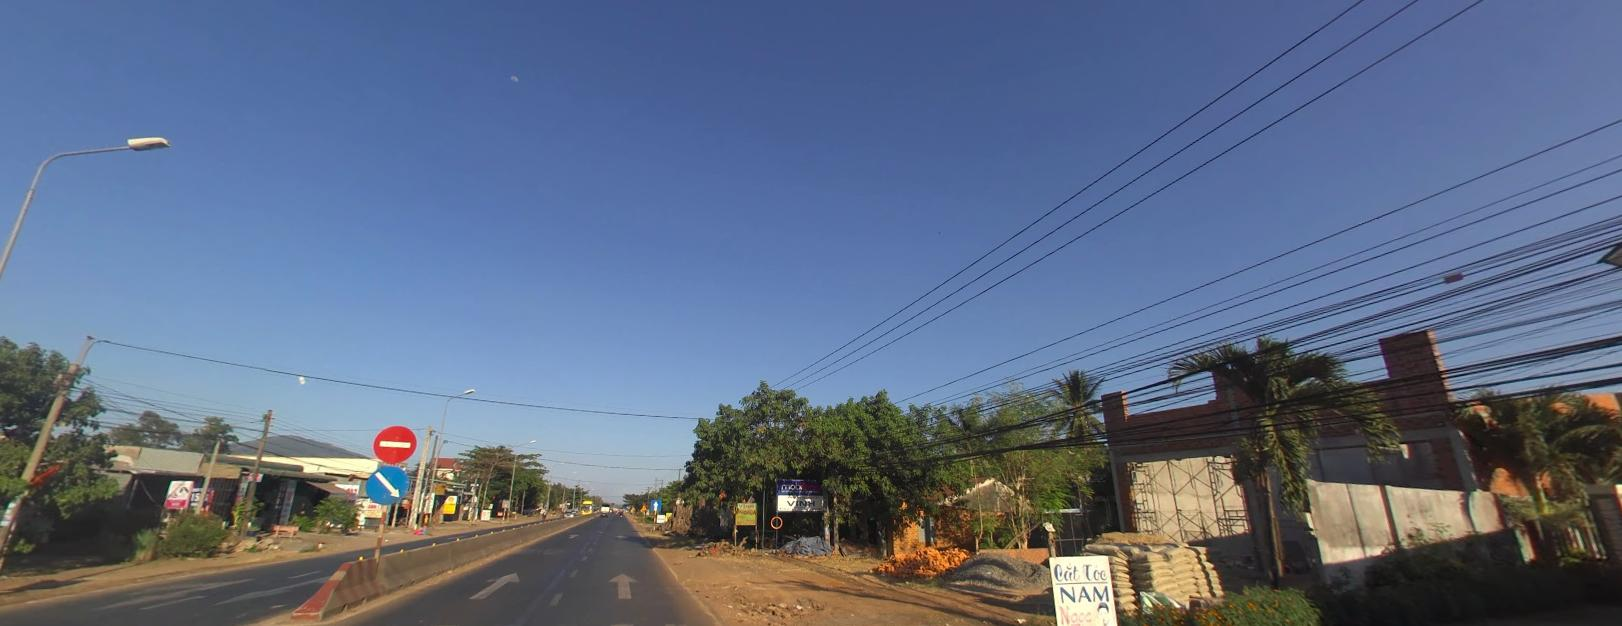Cam nguoc chieu: (372, 422, 417, 463)
Hieu lenh: (365, 463, 410, 504)
Nguy hiem: (640, 503, 645, 509), (630, 504, 635, 510)
